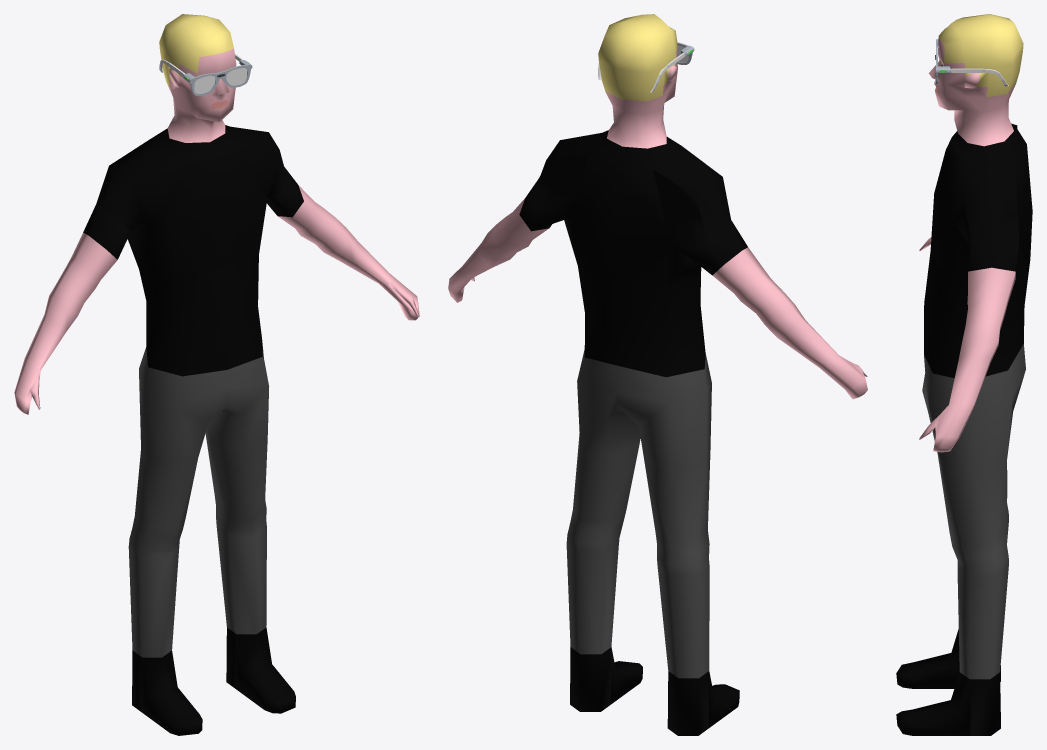
The model's file is NPC4af.fbx.
3 renders of one model, left to right at view 1: azimuth 30°, elevation 25°; view 2: azimuth 150°, elevation 25°; view 3: azimuth 270°, elevation 25°, orthographic. The views are drawn at different scales.
Visible parts, largest first — view 1: Body, Circle.003; view 2: Body; view 3: Body, Circle.003.
Part boxes in pixels (left/top/right/bottom): Body: left=14, top=14, right=419, bottom=735; Circle.003: left=159, top=53, right=252, bottom=96; Body: left=448, top=14, right=867, bottom=735; Body: left=896, top=14, right=1032, bottom=735; Circle.003: left=935, top=39, right=1008, bottom=86.
Bounding box in the file's own units: 114 × 182 × 32.73.
